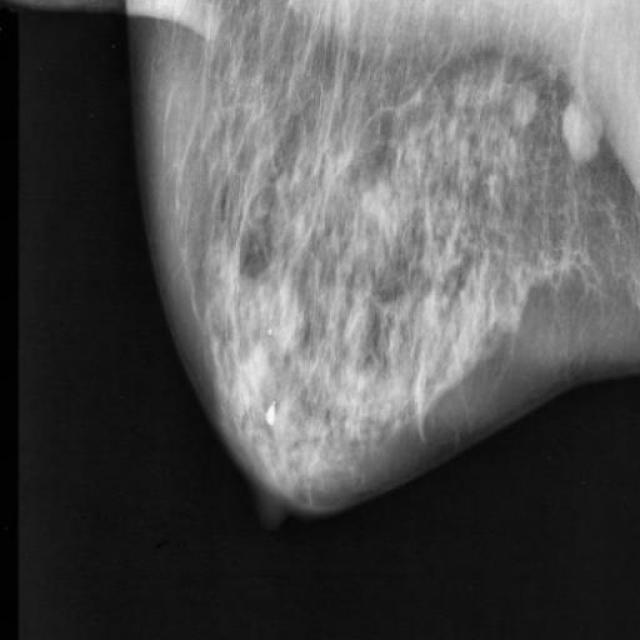cancer: (544, 96, 608, 186)
